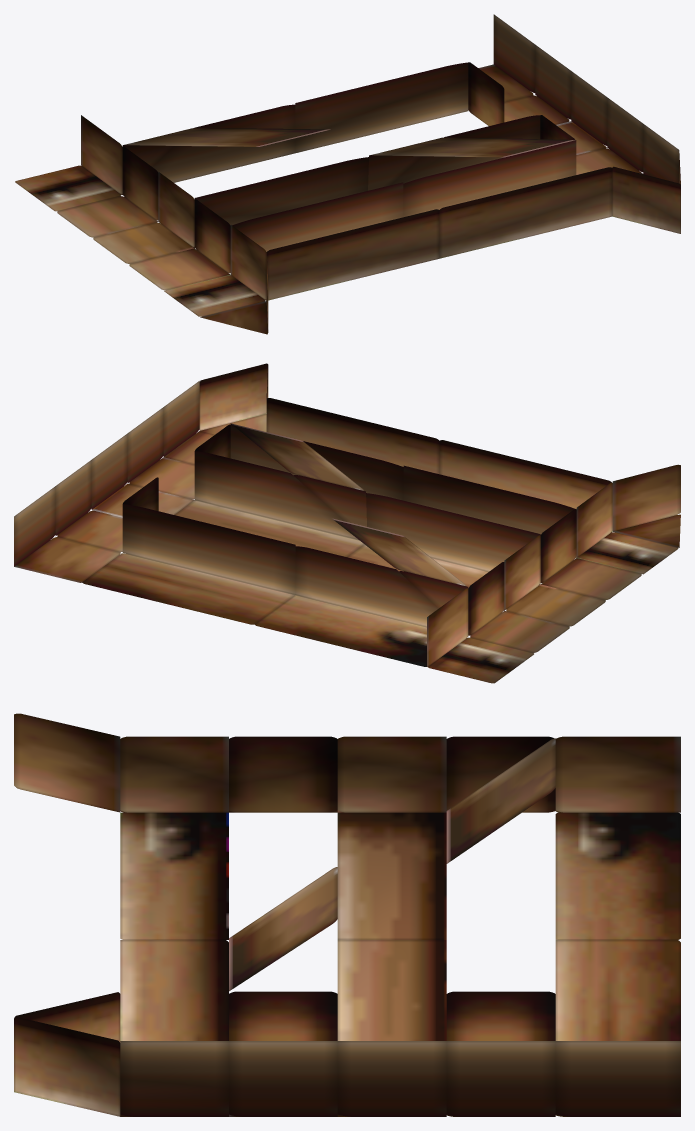
3 views of the same model, one above another, from view 1: azimuth 30°, elevation 25°; view 2: azimuth 150°, elevation 25°; view 3: azimuth 270°, elevation 25° (orthographic). The views are drawn at different scales.
Parts seen in each view (by area): view 1: T1L2M008_29; view 2: T1L2M008_29; view 3: T1L2M008_29.
Part boxes in pixels (box(x1,y1,x2,y2)): T1L2M008_29: box(15, 14, 680, 334); T1L2M008_29: box(14, 363, 680, 683); T1L2M008_29: box(14, 713, 680, 1116).
Size of the model in its own units: 2 by 0.2002 by 1.59.
Materials: 1 (1 with a texture image).
